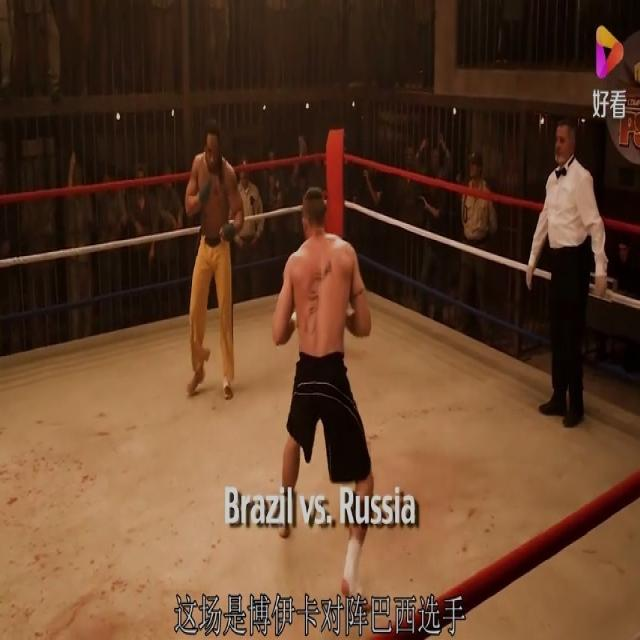fight: (179, 126, 382, 607)
non-fight: (526, 117, 609, 427)
